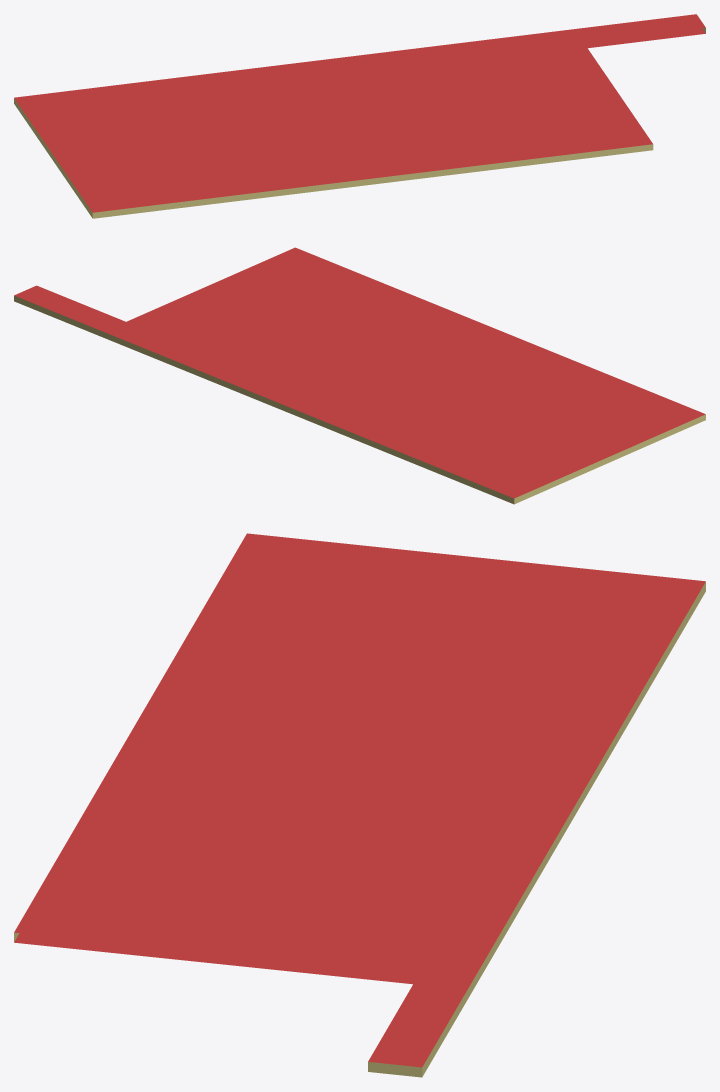
The picture shows the model from 3 angles, top to bottom: view 1: azimuth 30°, elevation 25°; view 2: azimuth 150°, elevation 25°; view 3: azimuth 270°, elevation 25°; orthographic projection. The views are drawn at different scales.
Size of the model in its own units: 11.33 by 6.21 by 0.1.
